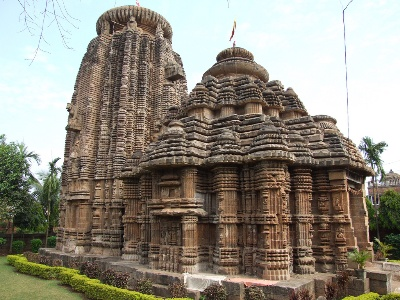amalaka: (204, 34, 274, 82), (86, 4, 182, 38)
gopuram: (66, 41, 192, 182)
